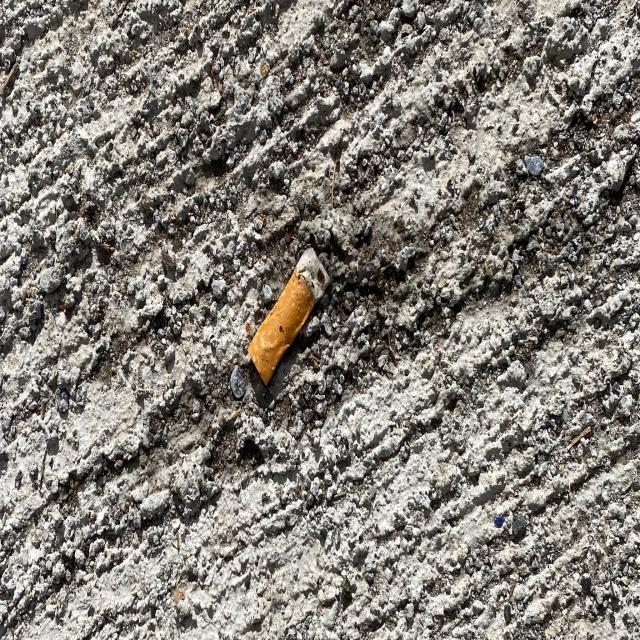other waste: (246, 244, 331, 388)
